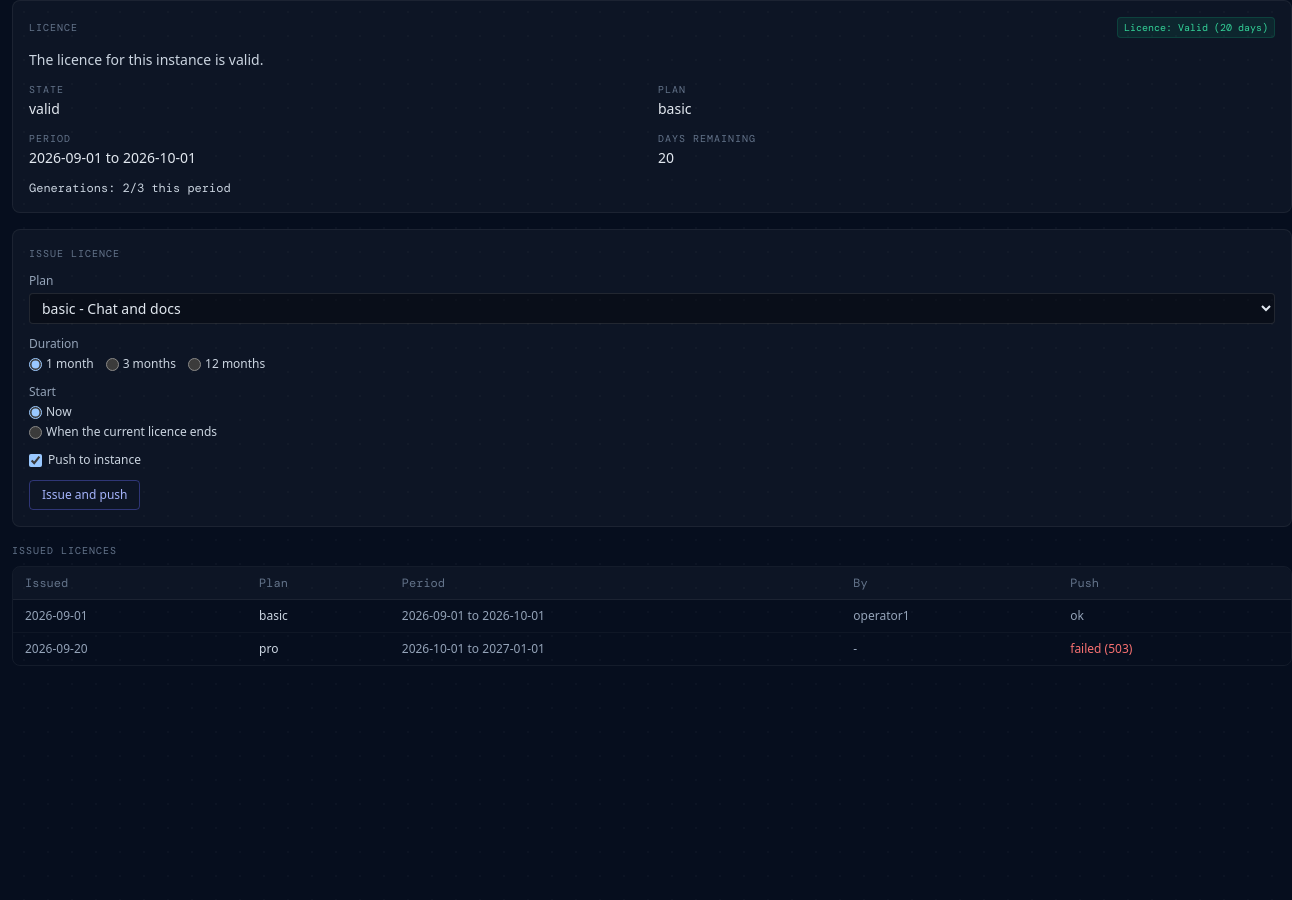
licence issue form › posts the exact body with push on
Select "pro - More generations" in the dropdown labelled "Plan" at (652, 308), box [29,293,1275,324]
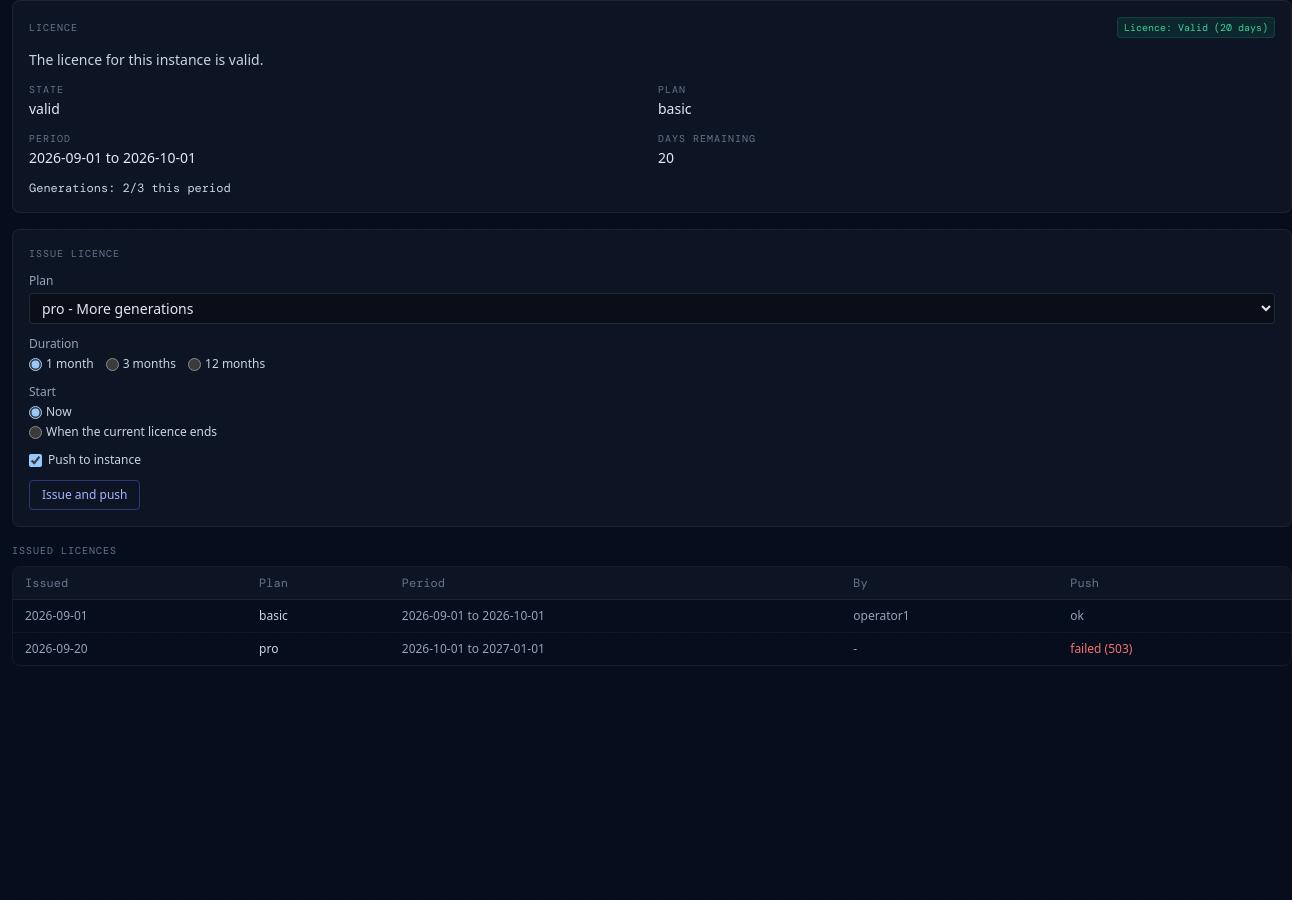
Click the radio button labelled "3 months" at (112, 364), box [106,358,119,370]
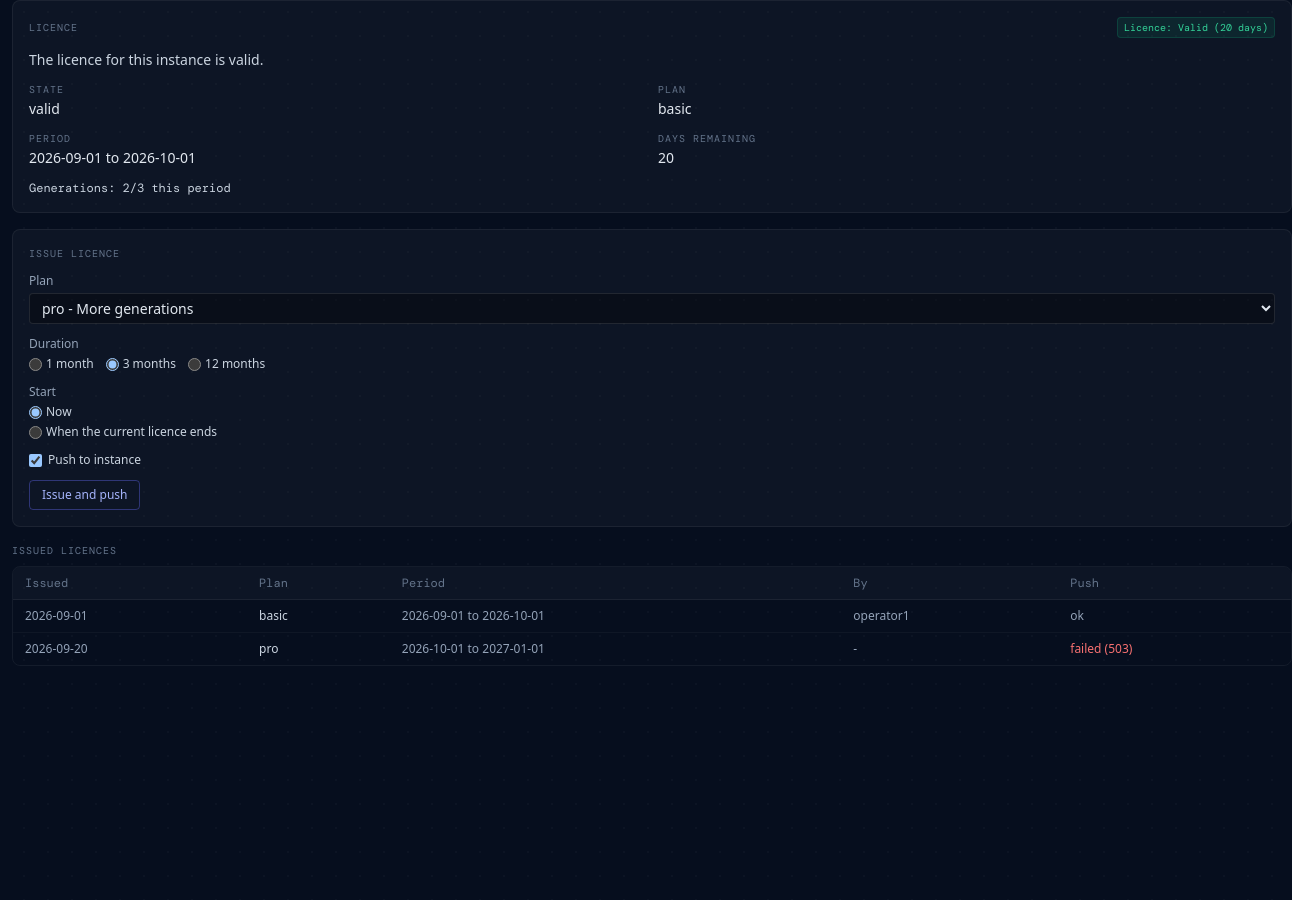
Click the radio button labelled "When the current licence ends" at (36, 432), box [29,426,42,438]
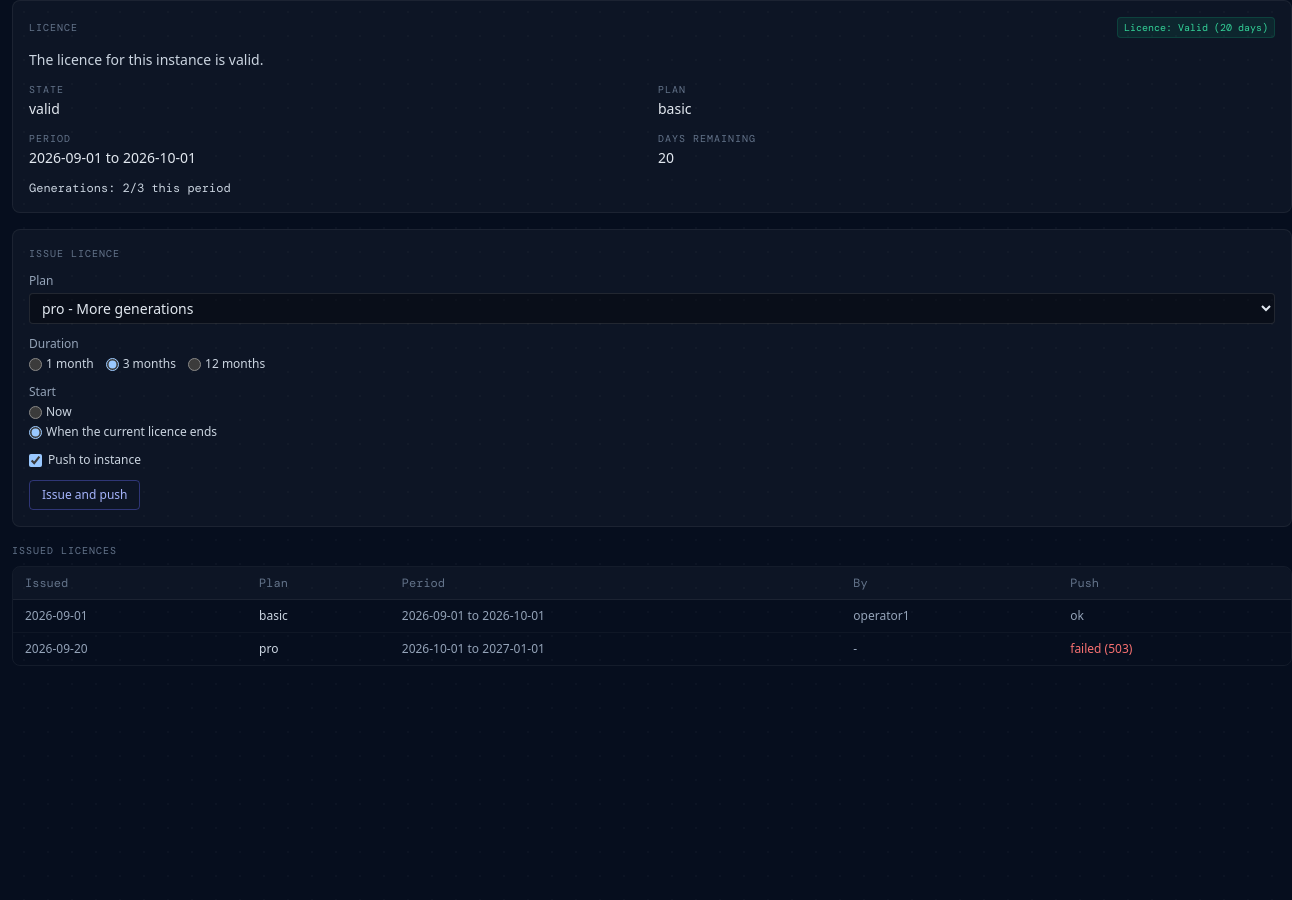
Click the button "Issue and push" at (85, 495), box [29,480,140,510]
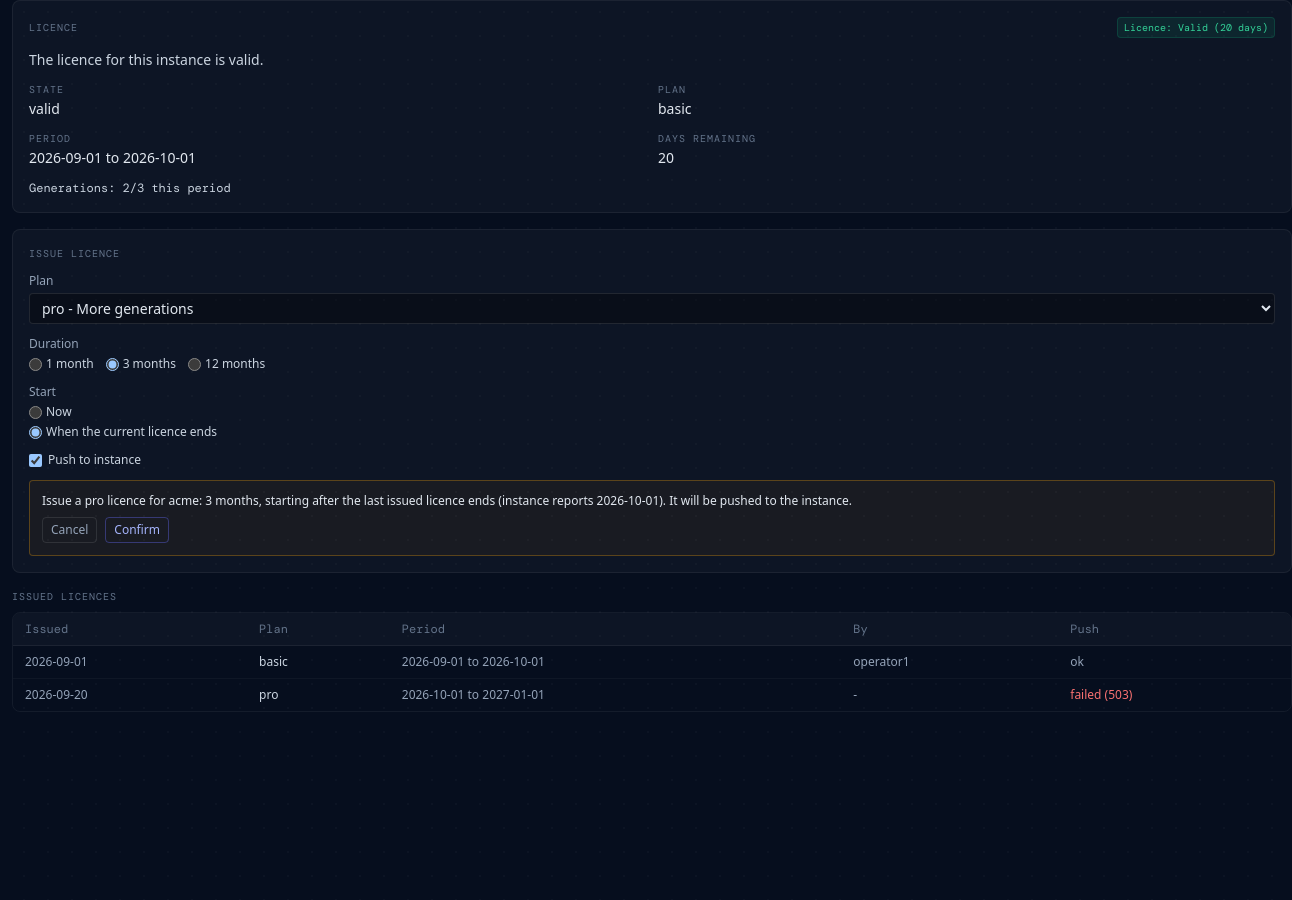
Expected: the text with test id "issue-confirm-summary" shows "Issue a pro licence for acme: 3 months, starting after the last issued licence ends (instance reports 2026-10-01).", [42,492,852,509]
Click the button "Confirm" at (137, 530), box [105,517,169,543]
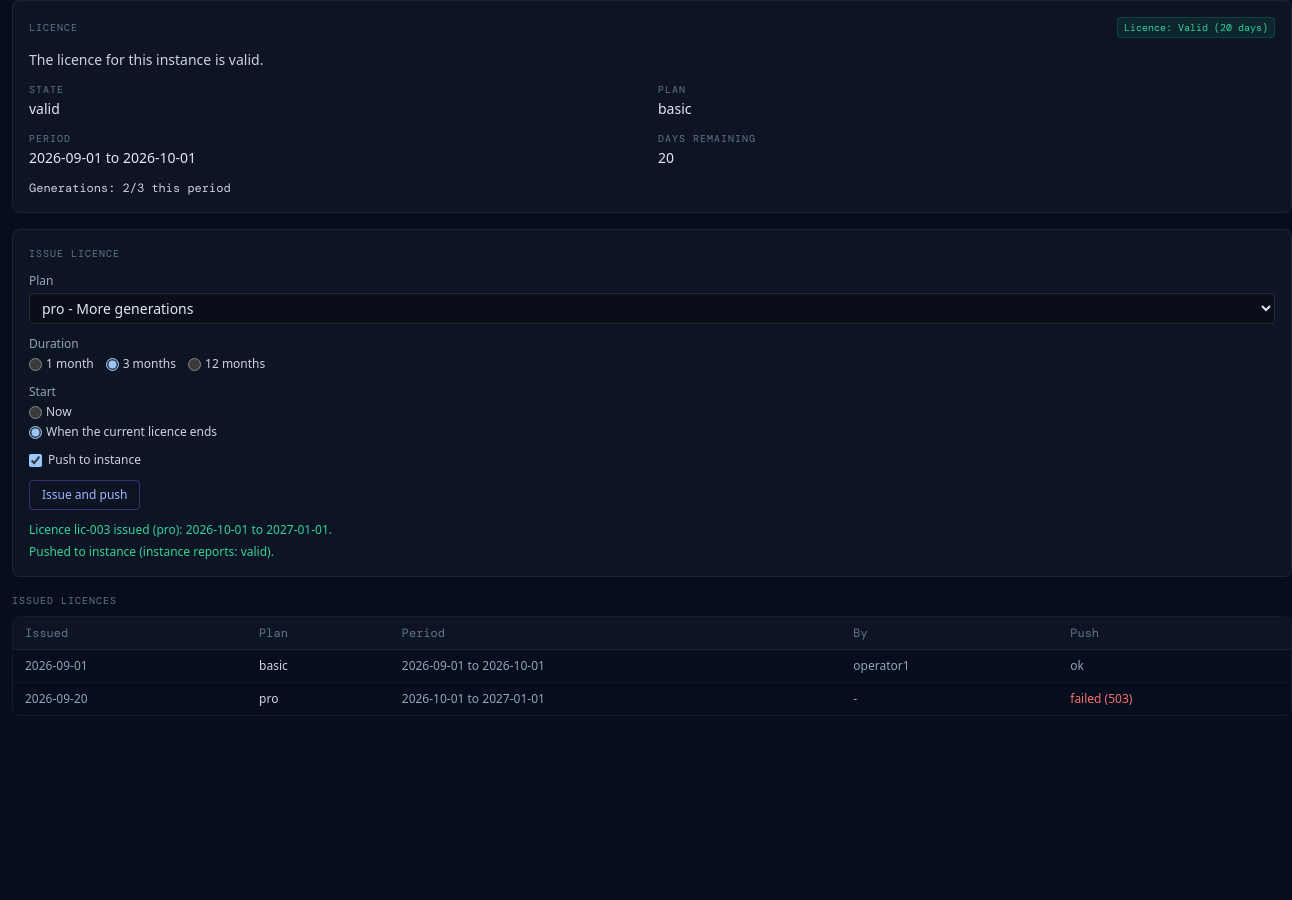
Expected: the element with test id "issue-result" shows "Licence lic-003 issued (pro): 2026-10-01 to 2027-01-01.", [29,521,332,560]
Expected: the element with test id "issue-result" shows "Pushed to instance (instance reports: valid).", [29,543,274,560]
